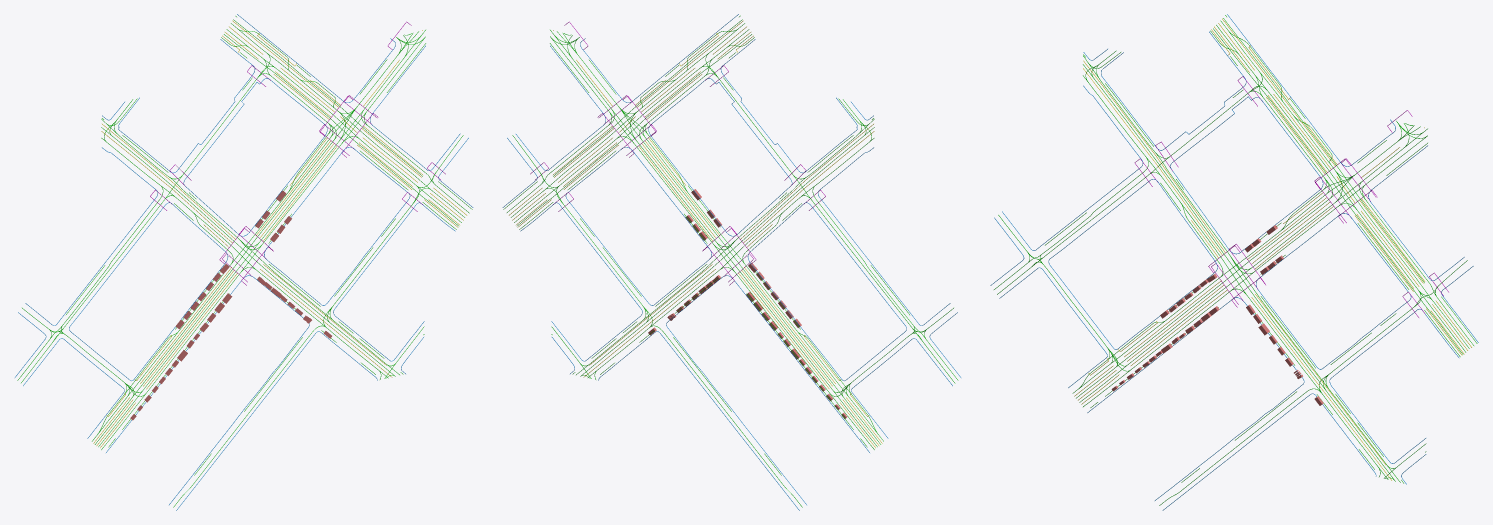
Rendered from map_s179934.glb.
3 views of the same model, side by side, from view 1: azimuth 30°, elevation 25°; view 2: azimuth 150°, elevation 25°; view 3: azimuth 330°, elevation 25° (orthographic). The views are drawn at different scales.
Parts seen in each view (by area): view 1: map_s179934.ply; view 2: map_s179934.ply; view 3: map_s179934.ply.
Part boxes in pixels (bbox=[...]): map_s179934.ply: bbox=[15, 14, 473, 510]; map_s179934.ply: bbox=[502, 14, 960, 510]; map_s179934.ply: bbox=[990, 14, 1478, 510].
Size of the model in its own units: 283 by 284 by 3.73.
